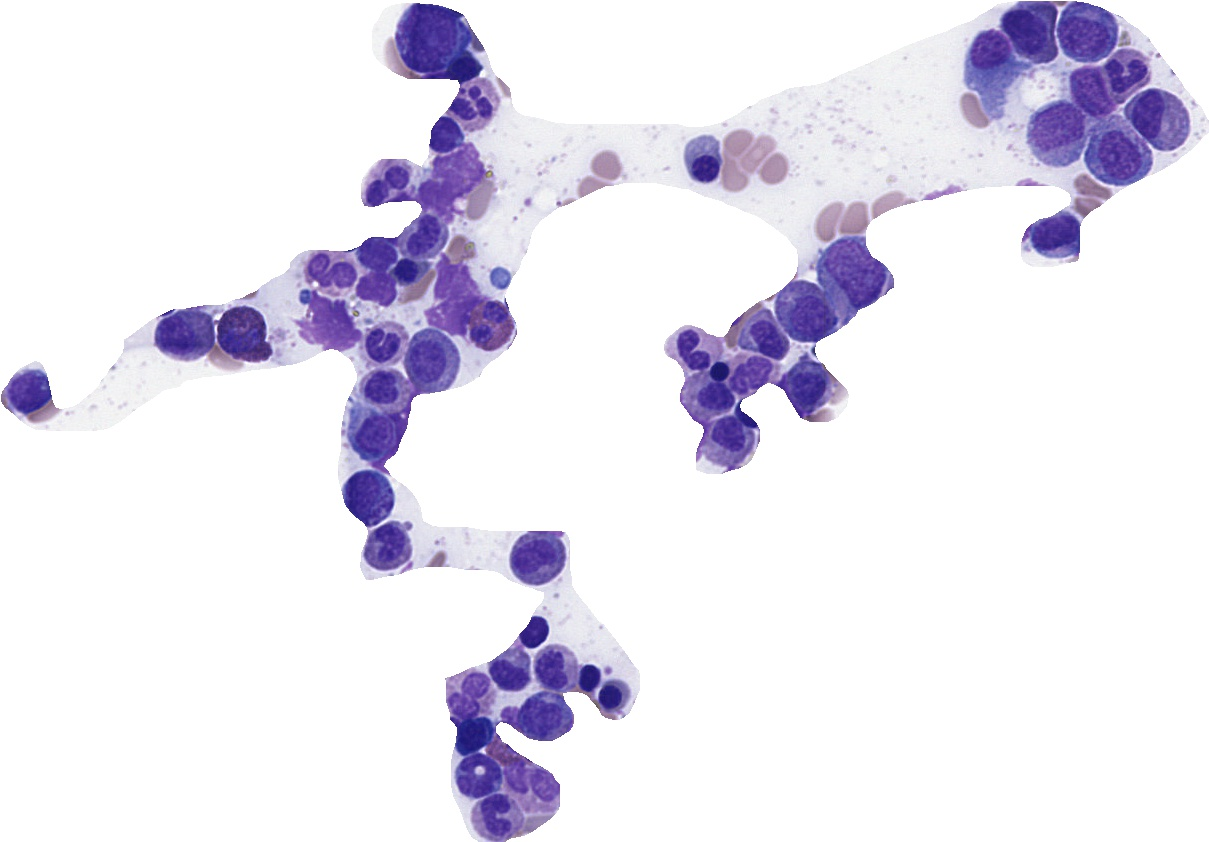objectness: (454, 749, 504, 799), (1101, 48, 1151, 98), (358, 318, 408, 368), (668, 324, 718, 374), (447, 78, 497, 128), (405, 340, 455, 390), (1007, 2, 1057, 52), (684, 374, 734, 424), (778, 285, 828, 335), (159, 306, 209, 356), (701, 411, 751, 461), (518, 693, 568, 743), (741, 311, 791, 361), (1138, 93, 1188, 143), (784, 364, 834, 414), (516, 533, 566, 583), (463, 296, 513, 346), (215, 304, 265, 354), (530, 645, 580, 695), (480, 646, 530, 696), (359, 364, 409, 414), (400, 211, 450, 261), (367, 520, 417, 570), (829, 247, 879, 297), (401, 12, 451, 62), (343, 472, 393, 522), (345, 408, 395, 458), (964, 36, 1014, 86), (694, 346, 744, 396), (1030, 106, 1080, 156), (1067, 66, 1117, 116), (439, 42, 489, 92), (510, 607, 560, 657), (427, 274, 477, 324), (443, 671, 493, 721), (432, 141, 482, 191), (303, 301, 353, 351), (564, 652, 614, 702), (359, 157, 409, 207), (304, 247, 354, 297), (354, 263, 404, 313), (1033, 210, 1083, 260), (416, 173, 466, 223), (720, 346, 770, 396), (503, 758, 553, 808), (353, 228, 403, 278), (3, 365, 53, 415), (419, 111, 469, 161), (588, 670, 638, 720), (679, 136, 729, 186), (384, 250, 434, 300), (448, 709, 498, 759), (1058, 9, 1108, 59), (1091, 132, 1141, 182), (472, 794, 522, 842)
